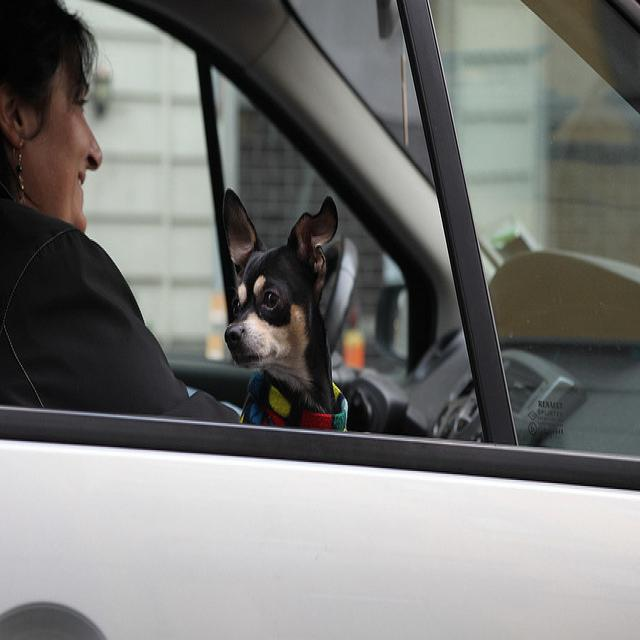Vehicle: (1, 6, 633, 631)
